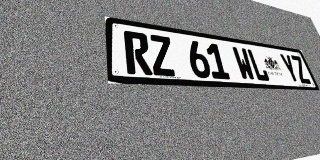1: (204, 42, 230, 79)
6: (185, 39, 213, 78)
L: (246, 48, 271, 82)
R: (123, 30, 153, 75)
W: (231, 46, 257, 81)
Y: (279, 53, 301, 83)
Z: (148, 34, 177, 77), (290, 55, 312, 84)
